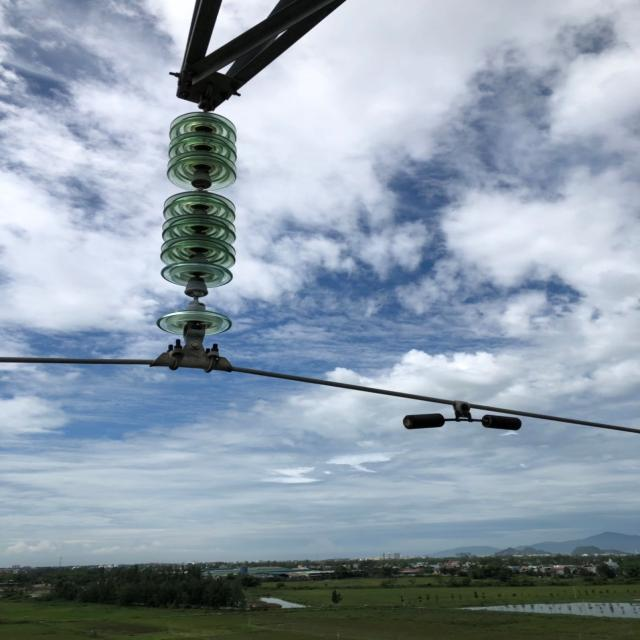正常电缆: (0, 346, 640, 442)
正常绝缘子: (148, 98, 250, 374)
绝缘子破损: (184, 283, 208, 308), (192, 175, 212, 191)
